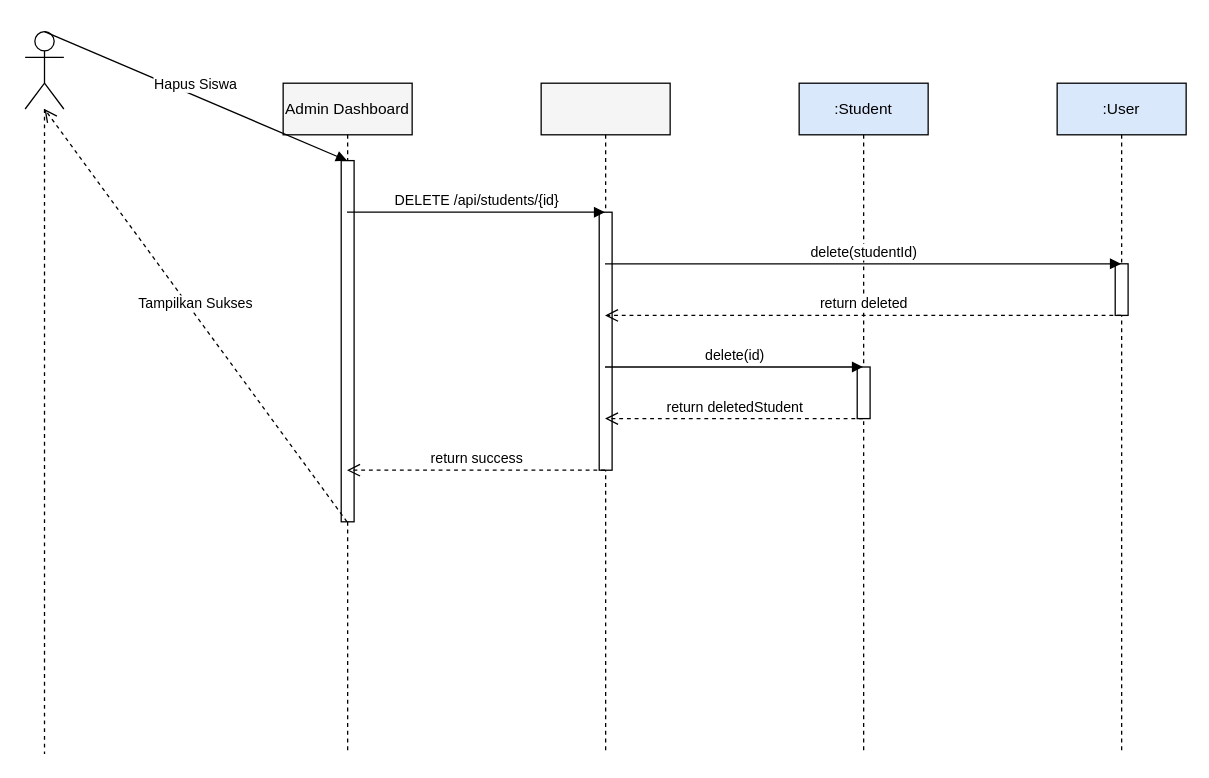
The diagram is 1209 pixels wide and 778 high, and some of its shapes have lost their labels. The shapes that lost their labels are listed below. From the top down, each one's box as (x1, y1, x2, y2) in pixels, then its label:
(24, 30, 64, 109): Admin
(540, 82, 670, 754): Backend API
